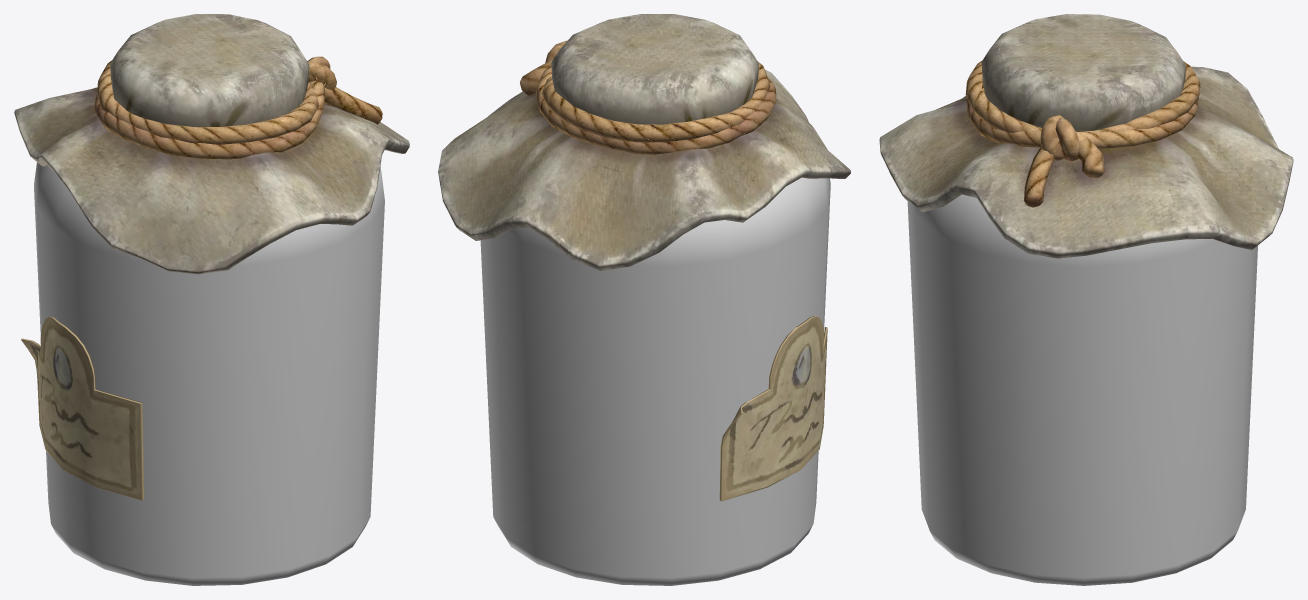
The picture shows the model from 3 angles, left to right: view 1: azimuth 30°, elevation 25°; view 2: azimuth 150°, elevation 25°; view 3: azimuth 270°, elevation 25°; orthographic projection.
Visible parts, largest first — view 1: SM_Fenkenstrain_Jar_LOD0; view 2: SM_Fenkenstrain_Jar_LOD0; view 3: SM_Fenkenstrain_Jar_LOD0.
Boxes of the visible parts, x1,y1,x2,y2 form: SM_Fenkenstrain_Jar_LOD0: (14, 14, 409, 585); SM_Fenkenstrain_Jar_LOD0: (438, 14, 850, 585); SM_Fenkenstrain_Jar_LOD0: (879, 14, 1293, 585).
Size of the model in its own units: 0.3164 by 0.4364 by 0.3438.
2 materials, 1 textured.
